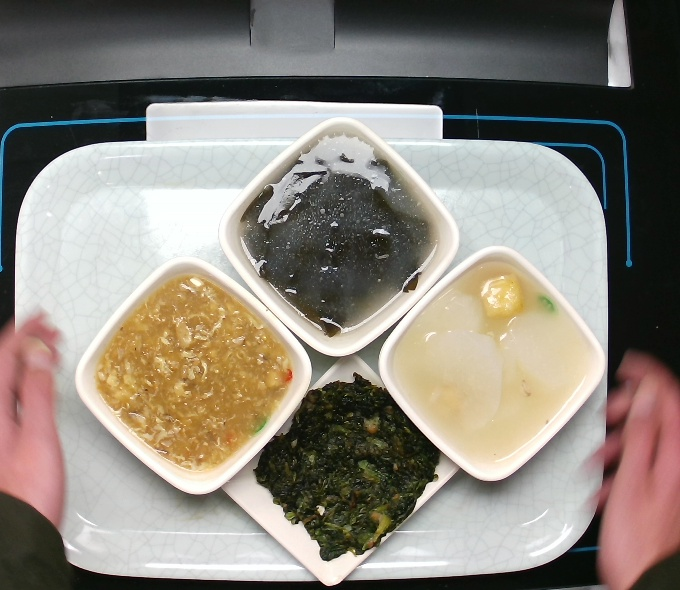wcq-HaiDaiPaiGuTang: (236, 131, 439, 338)
wcq-LuoBoYouPaoTang: (388, 259, 599, 465)
wcq-QinCaiBing: (252, 374, 440, 559)
wcq-SuanLaGeng: (93, 272, 292, 468)
